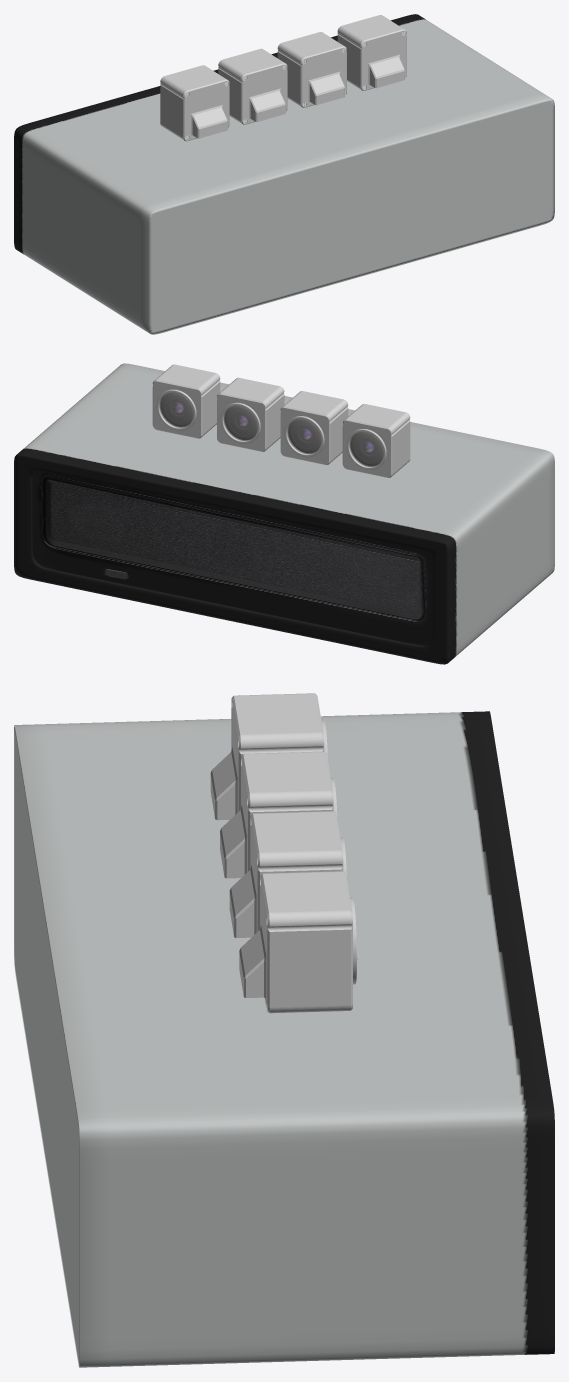
Rendered from 4CAM.glb.
The picture shows the model from 3 angles, top to bottom: view 1: azimuth 30°, elevation 25°; view 2: azimuth 150°, elevation 25°; view 3: azimuth 270°, elevation 25°; orthographic projection. The views are drawn at different scales.
Visible parts, largest first — view 1: pCube4, polySurface68 polySurface103, polySurface69 polySurface81, polySurface58 polySurface92, polySurface70 polySurface114, polySurface68 polySurface96, polySurface70 polySurface107, polySurface58 polySurface85, polySurface69 polySurface74; view 2: pCube4, polySurface58 polySurface85, polySurface68 polySurface96, polySurface70 polySurface107, polySurface69 polySurface74, polySurface68 polySurface98, polySurface58 polySurface87, polySurface76 polySurface69, polySurface70 polySurface109, polySurface70 polySurface115, polySurface58 polySurface93, polySurface69 polySurface82 (+6 smaller); view 3: pCube4, polySurface58 polySurface85, polySurface58 polySurface92, polySurface70 polySurface107, polySurface69 polySurface74, polySurface68 polySurface96, polySurface70 polySurface114, polySurface69 polySurface81, polySurface68 polySurface103.
Boxes of the visible parts, x1=… form: pCube4: x1=14, y1=14, x2=554, y2=334; polySurface68 polySurface103: x1=179, y1=77, x2=229, y2=141; polySurface69 polySurface81: x1=237, y1=60, x2=287, y2=124; polySurface58 polySurface92: x1=356, y1=26, x2=406, y2=90; polySurface70 polySurface114: x1=296, y1=43, x2=346, y2=107; polySurface68 polySurface96: x1=160, y1=65, x2=222, y2=136; polySurface70 polySurface107: x1=277, y1=32, x2=339, y2=103; polySurface58 polySurface85: x1=337, y1=15, x2=399, y2=86; polySurface69 polySurface74: x1=218, y1=48, x2=280, y2=120; pCube4: x1=14, y1=363, x2=554, y2=664; polySurface58 polySurface85: x1=152, y1=367, x2=216, y2=438; polySurface68 polySurface96: x1=342, y1=407, x2=406, y2=477; polySurface70 polySurface107: x1=217, y1=380, x2=280, y2=451; polySurface69 polySurface74: x1=280, y1=394, x2=344, y2=464; polySurface68 polySurface98: x1=349, y1=432, x2=383, y2=466; polySurface58 polySurface87: x1=159, y1=392, x2=193, y2=427; polySurface76 polySurface69: x1=287, y1=419, x2=321, y2=453; polySurface70 polySurface109: x1=223, y1=406, x2=257, y2=440; polySurface70 polySurface115: x1=225, y1=406, x2=257, y2=439; polySurface58 polySurface93: x1=161, y1=393, x2=192, y2=426; polySurface69 polySurface82: x1=288, y1=419, x2=320, y2=452; pCube4: x1=14, y1=711, x2=554, y2=1367; polySurface58 polySurface85: x1=278, y1=871, x2=352, y2=1012; polySurface58 polySurface92: x1=239, y1=873, x2=285, y2=1013; polySurface70 polySurface107: x1=268, y1=811, x2=343, y2=872; polySurface69 polySurface74: x1=259, y1=751, x2=333, y2=812; polySurface68 polySurface96: x1=249, y1=693, x2=324, y2=753; polySurface70 polySurface114: x1=229, y1=813, x2=275, y2=937; polySurface69 polySurface81: x1=220, y1=753, x2=265, y2=878; polySurface68 polySurface103: x1=210, y1=695, x2=256, y2=820.
Bounding box in the file's own units: 561 × 224 × 304.
7 materials, 7 textured.
